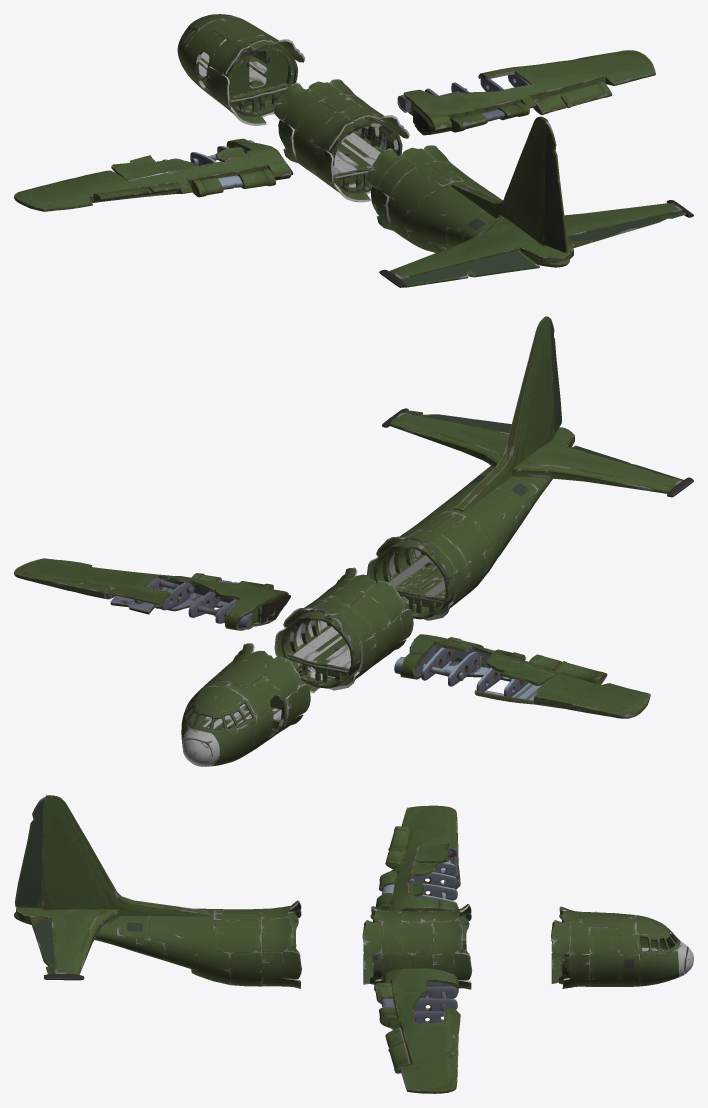
File: crashed_plane.glb
The picture shows the model from 3 angles, top to bottom: view 1: azimuth 30°, elevation 25°; view 2: azimuth 150°, elevation 25°; view 3: azimuth 270°, elevation 25°; orthographic projection. The views are drawn at different scales.
Visible parts, largest first — view 1: Fortnite crashed plane_0; view 2: Fortnite crashed plane_0; view 3: Fortnite crashed plane_0.
Part boxes in pixels (x1=…): Fortnite crashed plane_0: x1=14, y1=14, x2=693, y2=287; Fortnite crashed plane_0: x1=14, y1=316, x2=693, y2=766; Fortnite crashed plane_0: x1=14, y1=795, x2=693, y2=1093.
Bounding box in the file's own units: 138 × 43.99 × 143.
4 materials, 4 textured.
